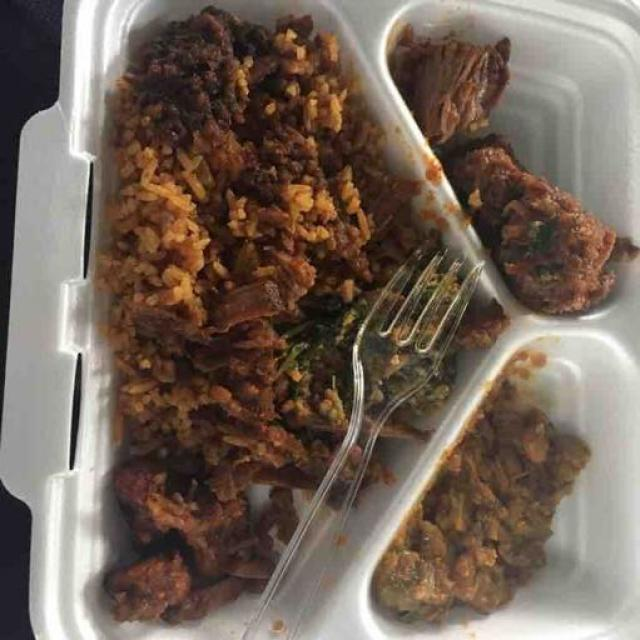beans: (404, 408, 582, 634)
rice: (122, 14, 443, 490)
